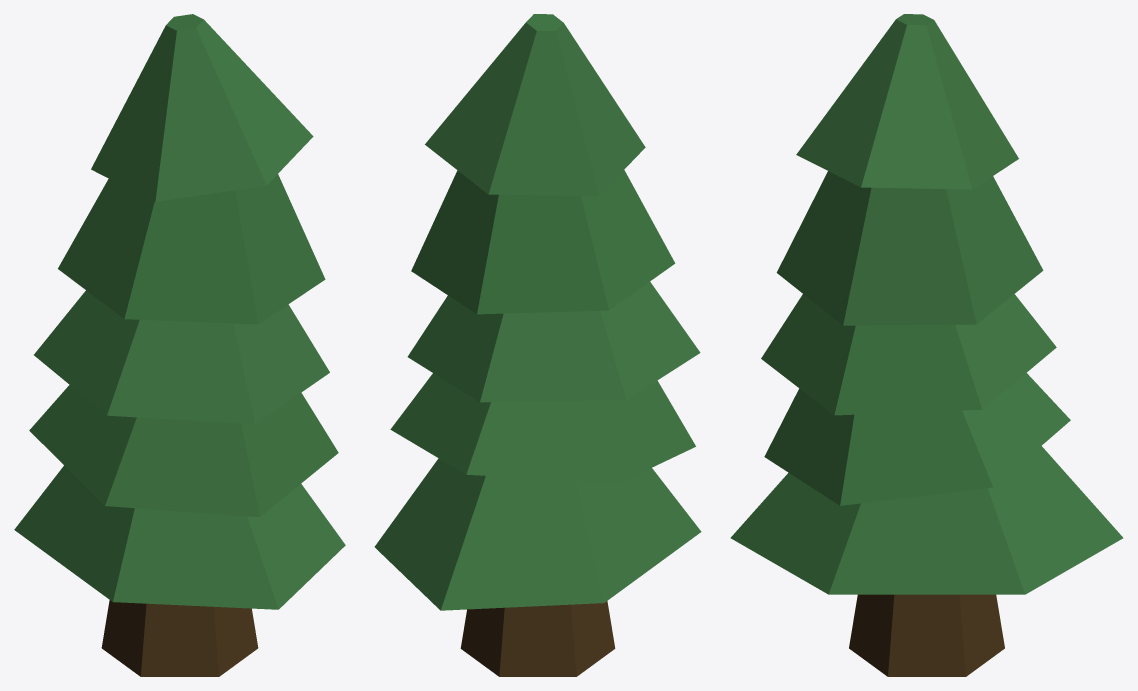
The model's file is TREE 3.fbx.
3 views of the same model, side by side, from view 1: azimuth 30°, elevation 25°; view 2: azimuth 150°, elevation 25°; view 3: azimuth 270°, elevation 25° (orthographic).
Parts seen in each view (by area): view 1: Cylinder.004, Cylinder.001, Cylinder.003, Cylinder.002, Cylinder.005, Cylinder; view 2: Cylinder.001, Cylinder.004, Cylinder.005, Cylinder.003, Cylinder.002, Cylinder; view 3: Cylinder.001, Cylinder.004, Cylinder.005, Cylinder.002, Cylinder.003, Cylinder.
Part boxes in pixels (x1,y1,x2,y2): Cylinder.004: [58, 174, 325, 324]; Cylinder.001: [14, 465, 345, 609]; Cylinder.003: [34, 290, 329, 424]; Cylinder.002: [29, 385, 338, 517]; Cylinder.005: [91, 14, 313, 201]; Cylinder: [101, 600, 258, 676]; Cylinder.001: [374, 458, 701, 610]; Cylinder.004: [411, 170, 675, 314]; Cylinder.005: [425, 14, 645, 195]; Cylinder.003: [407, 282, 700, 402]; Cylinder.002: [390, 373, 695, 483]; Cylinder: [460, 601, 615, 676]; Cylinder.001: [730, 446, 1123, 594]; Cylinder.004: [776, 171, 1043, 325]; Cylinder.005: [796, 14, 1018, 189]; Cylinder.002: [764, 373, 1070, 505]; Cylinder.003: [761, 294, 1056, 415]; Cylinder: [849, 594, 1004, 676].
Bounding box in the file's own units: 387 × 995 × 562.
